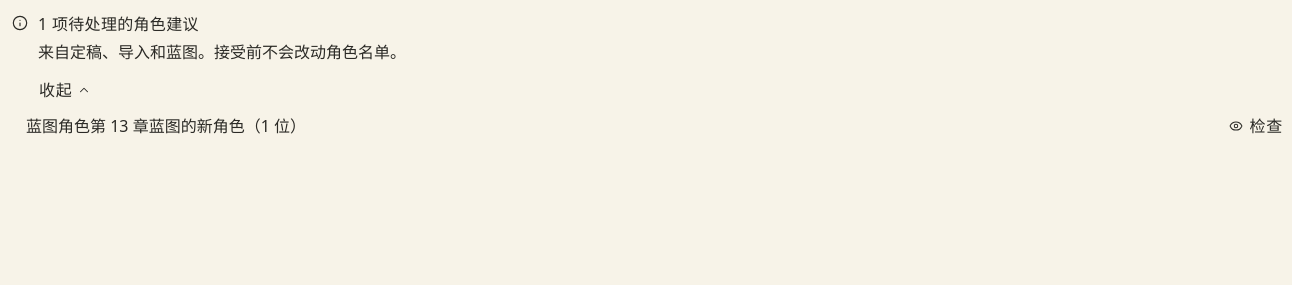
Test: 把雾灯人对应到林岚本人：指向林岚的关系去掉勾且不能再勾，接受不带它
Later steps or results of the test are not shown.
Click the button "检查" at [1257, 126], box [1230,112,1284,140]
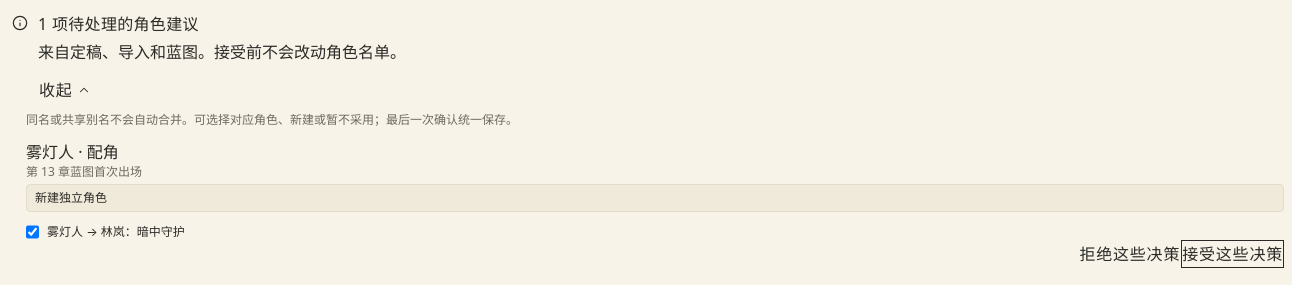
Select "林岚 · 主角 · heroine" in the dropdown named "采用方式：雾灯人 · 13:0" at [655, 198], box [26,184,1284,212]
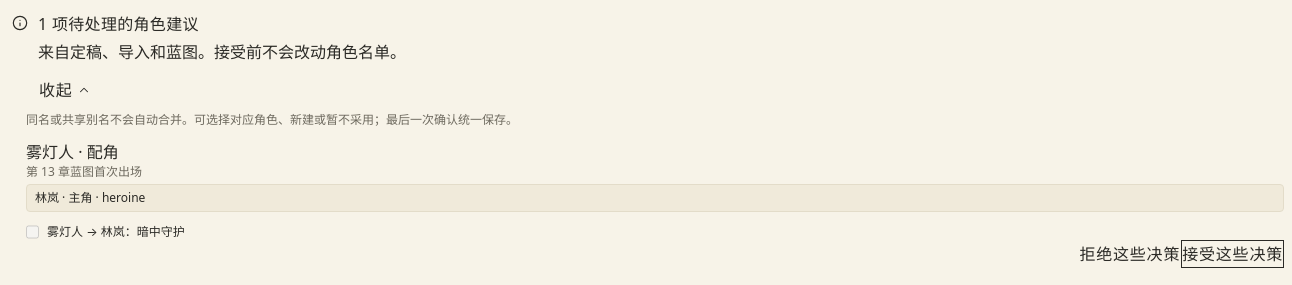
Result: the checkbox labelled "雾灯人 → 林岚：暗中守护" is not checked at [26,224,39,240]
Result: the checkbox labelled "雾灯人 → 林岚：暗中守护" is disabled at [26,224,39,240]
